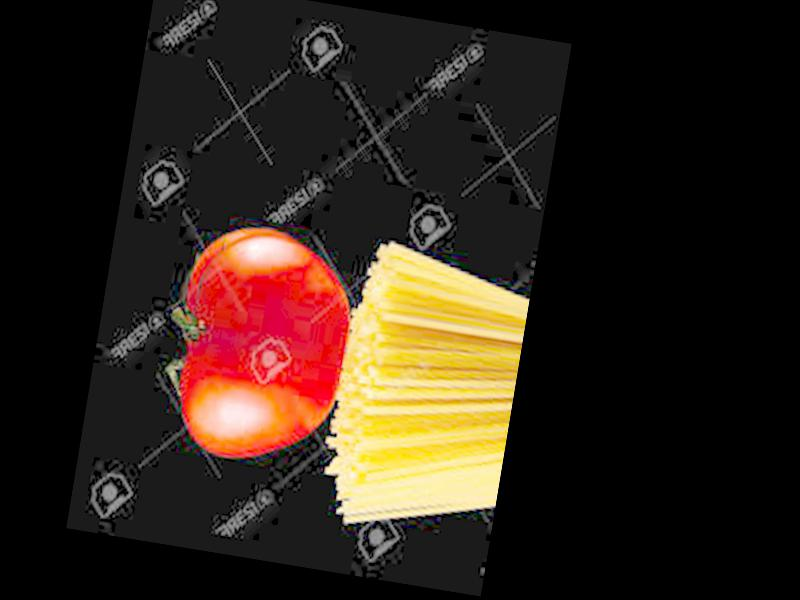Tomato: (161, 221, 363, 472)
